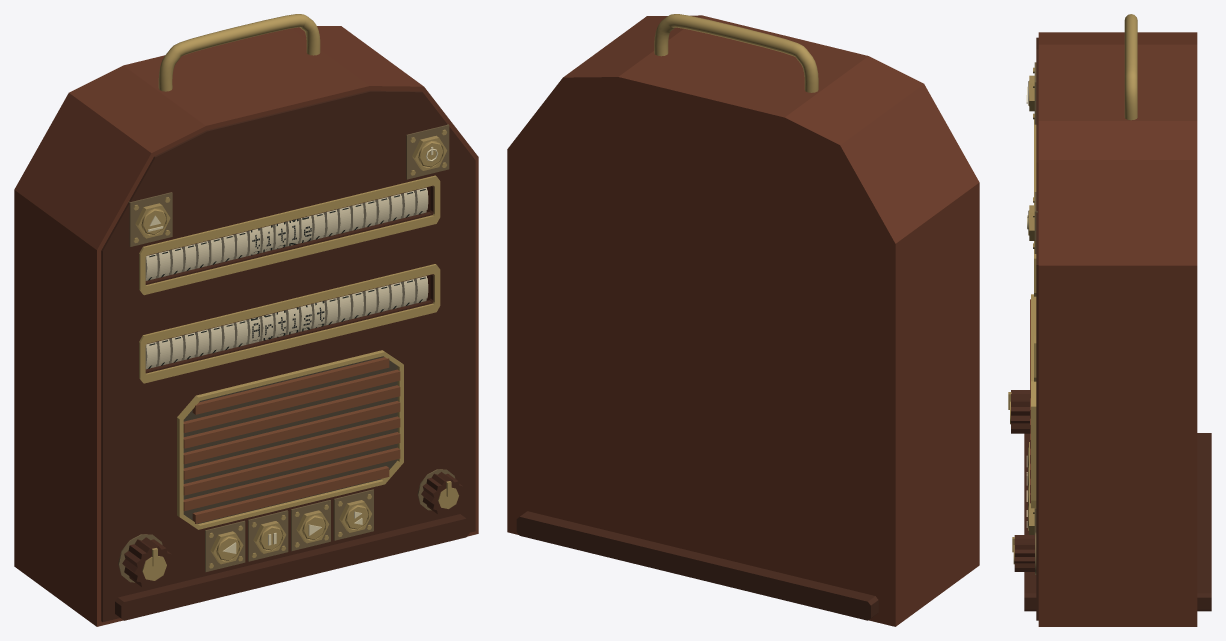
Rendered from AA-radio.glb.
3 views of the same model, side by side, from view 1: azimuth 30°, elevation 25°; view 2: azimuth 150°, elevation 25°; view 3: azimuth 270°, elevation 25° (orthographic). The views are drawn at different scales.
Visible parts, largest first — view 1: Front fascia — fitted to cabinet, real openings, Hollow wood cabinet, Speaker grille — mahogany slats, Base and feet, Integrated speaker cloth, Artist Bezel frame, Title Bezel frame, Speaker opening surround, Brass carry handle — U, Master vol — rotary control, Source — socket, Power — socket (+5 smaller); view 2: Hollow wood cabinet, Base and feet, Brass carry handle — U; view 3: Hollow wood cabinet, Base and feet, Front fascia — fitted to cabinet, real openings, Brass carry handle — U, Speaker opening surround, Master vol — rotary control, Local vol — rotary control, Title Bezel frame.
Part boxes in pixels (box(x1,y1,x2,y2)): Front fascia — fitted to cabinet, real openings: box(101, 90, 475, 622); Hollow wood cabinet: box(14, 26, 478, 626); Speaker grille — mahogany slats: box(183, 357, 400, 523); Base and feet: box(115, 514, 469, 620); Integrated speaker cloth: box(183, 356, 397, 523); Artist Bezel frame: box(139, 264, 440, 383); Title Bezel frame: box(139, 175, 440, 295); Speaker opening surround: box(177, 350, 403, 529); Brass carry handle — U: box(158, 14, 320, 91); Master vol — rotary control: box(122, 537, 173, 589); Source — socket: box(128, 192, 172, 246); Power — socket: box(406, 124, 449, 179); Hollow wood cabinet: box(507, 15, 979, 626); Base and feet: box(516, 511, 878, 620); Brass carry handle — U: box(654, 14, 818, 92); Hollow wood cabinet: box(1038, 32, 1197, 626); Base and feet: box(1024, 433, 1211, 611); Front fascia — fitted to cabinet, real openings: box(1036, 37, 1038, 620); Brass carry handle — U: box(1124, 14, 1137, 120); Speaker opening surround: box(1031, 294, 1036, 508); Master vol — rotary control: box(1011, 390, 1029, 433); Local vol — rotary control: box(1014, 535, 1034, 571); Title Bezel frame: box(1034, 119, 1036, 296).
Size of the model in its own units: 0.32 by 0.415 by 0.1541.
